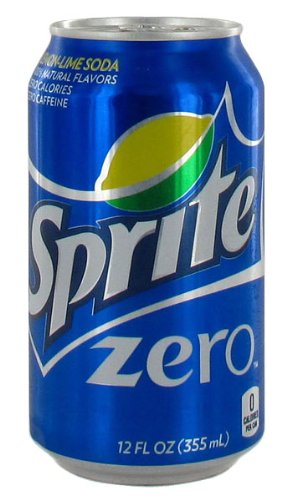can: (26, 11, 272, 492)
